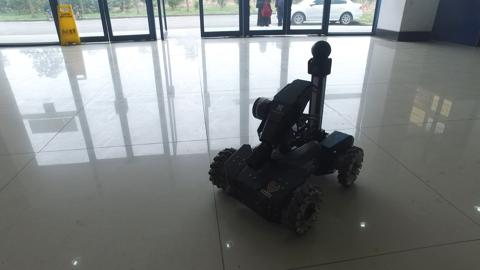car: (274, 1, 365, 28)
chariot: (207, 39, 365, 239)
